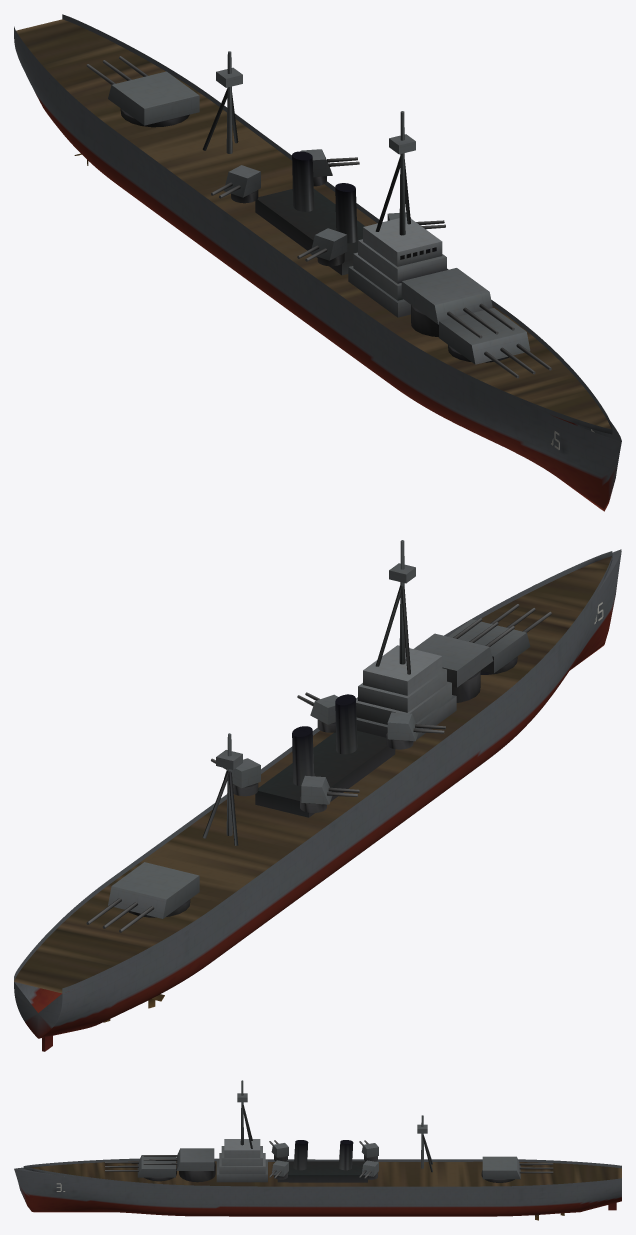
File: model_built.glb
3 renders of one model, top to bottom at view 1: azimuth 30°, elevation 25°; view 2: azimuth 150°, elevation 25°; view 3: azimuth 270°, elevation 25°, orthographic. The views are drawn at different scales.
Visible parts, largest first — view 1: main; view 2: main; view 3: main.
Part boxes in pixels (x1=…): main: x1=14, y1=14, x2=621, y2=511; main: x1=14, y1=540, x2=621, y2=1051; main: x1=14, y1=1080, x2=621, y2=1220.
Bounding box in the file's own units: 27.45 × 45.17 × 189.
Materials: 1 (1 with a texture image).
